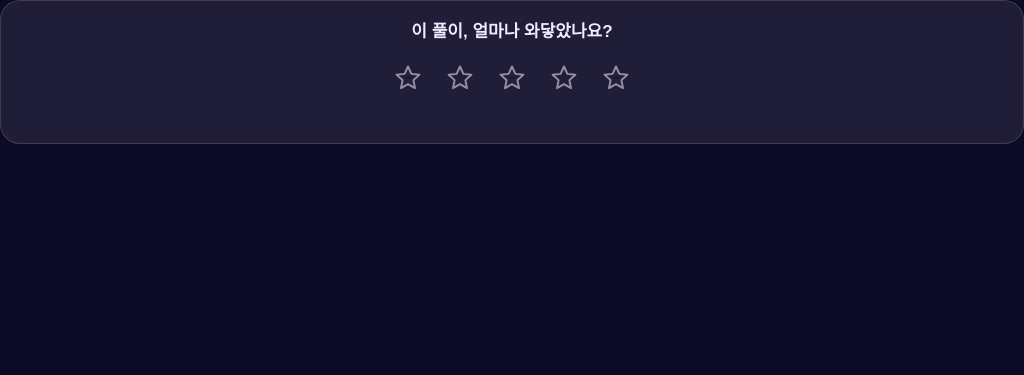
it: ReviewPrompt › opens the line after the stars, then saves the review of this reading
Click the radio button named "5점 중 5점".
click(616, 78)  # box [592, 54, 640, 102]
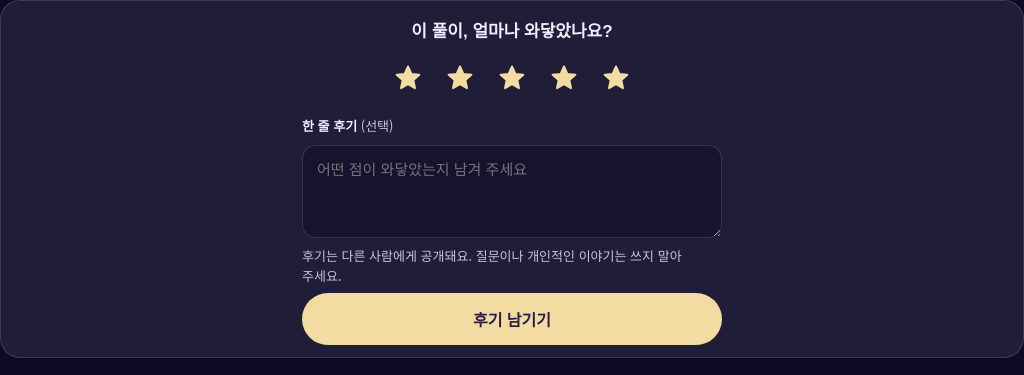
Type "생각보다 구체적이었어요" into the text box.
click(512, 191); type("생각보다 구체적이었어요")  # box [302, 145, 722, 238]
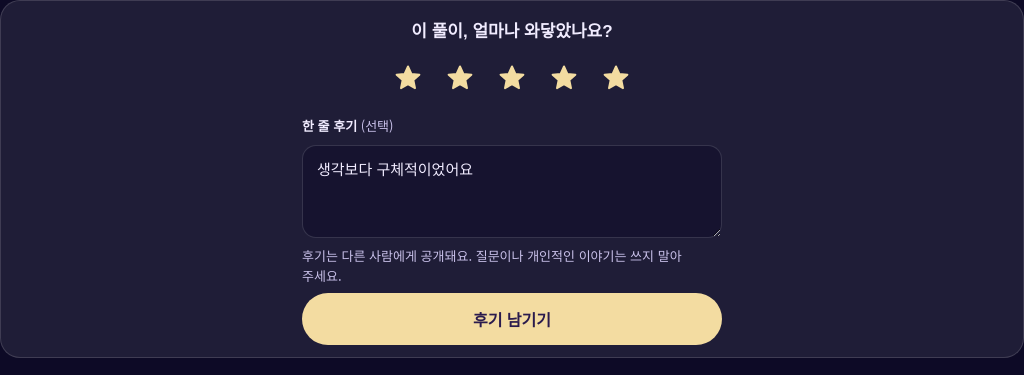
Click the button "후기 남기기".
click(512, 319)  # box [302, 293, 722, 345]
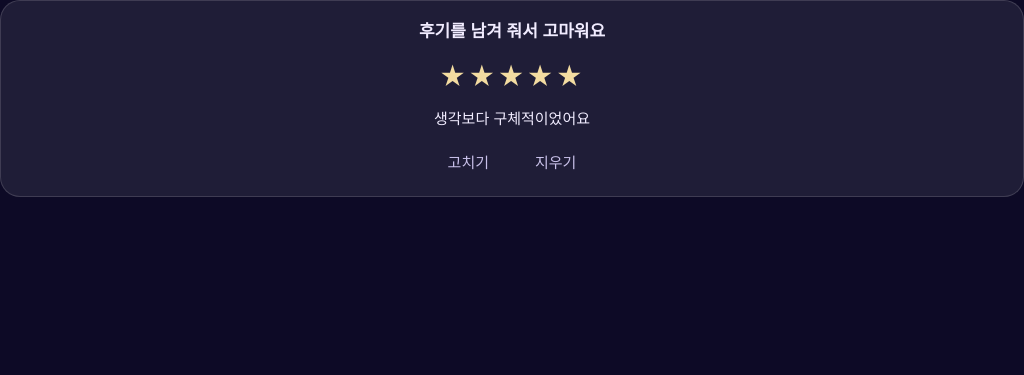
Expected: the heading "후기를 남겨 줘서 고마워요" is shown, [419, 21, 605, 44]
